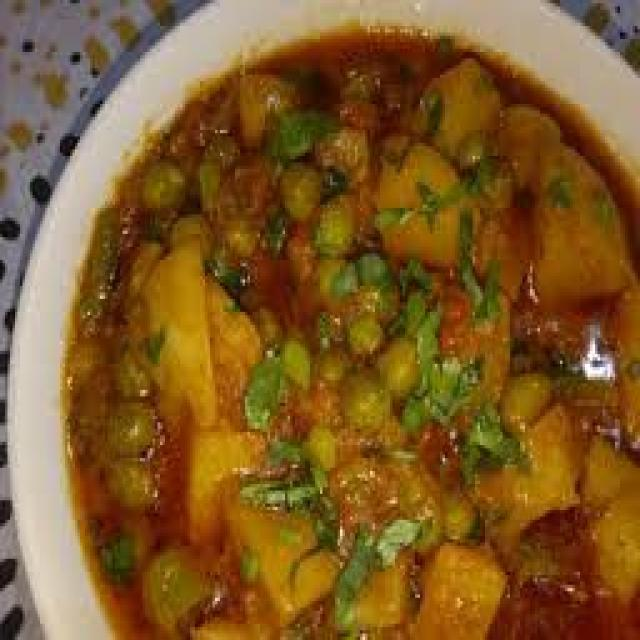Aloo Matar: (64, 55, 640, 640)
